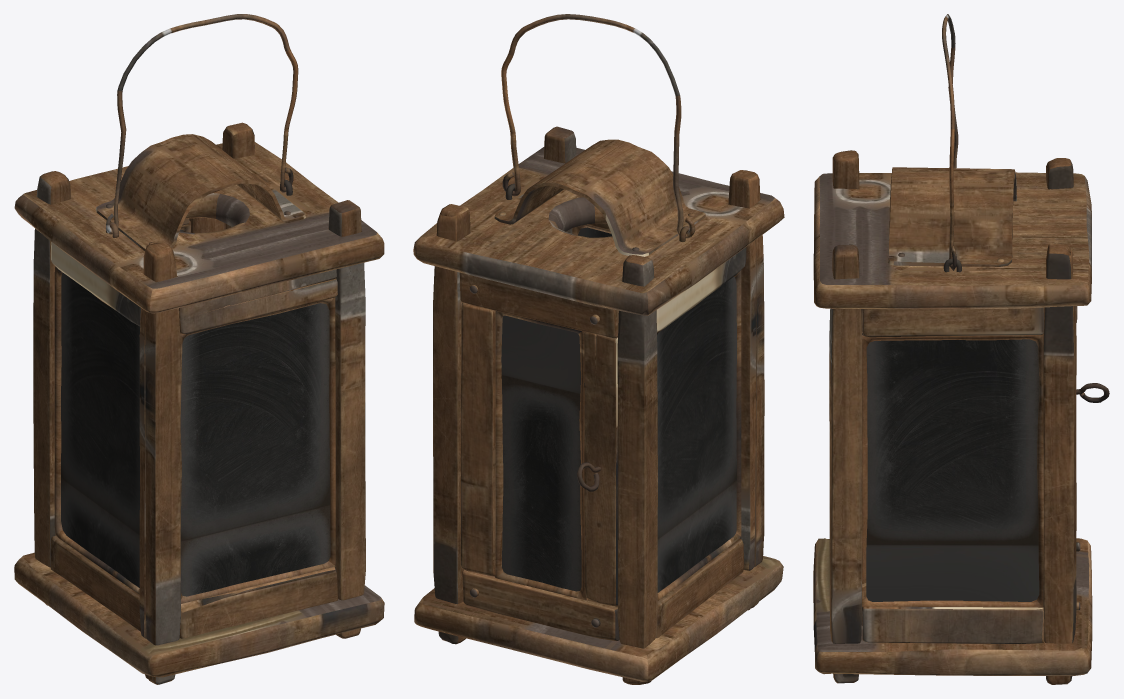
The model's file is wooden_lantern_01.obj.
3 views of the same model, side by side, from view 1: azimuth 30°, elevation 25°; view 2: azimuth 150°, elevation 25°; view 3: azimuth 270°, elevation 25° (orthographic).
Parts seen in each view (by area): view 1: wooden_lantern_01_wooden_lantern_01_0, wooden_lantern_01_wooden_lantern_01_1, wooden_lantern_01_wooden_lantern_01_handle_0, wooden_lantern_01_wooden_lantern_01_door_0; view 2: wooden_lantern_01_wooden_lantern_01_0, wooden_lantern_01_wooden_lantern_01_door_0, wooden_lantern_01_wooden_lantern_01_1, wooden_lantern_01_wooden_lantern_01_door_1, wooden_lantern_01_wooden_lantern_01_handle_0; view 3: wooden_lantern_01_wooden_lantern_01_0, wooden_lantern_01_wooden_lantern_01_1, wooden_lantern_01_wooden_lantern_01_handle_0, wooden_lantern_01_wooden_lantern_01_door_0.
Boxes of the visible parts, x1,y1,x2,y2 form: wooden_lantern_01_wooden_lantern_01_0: (14,122,384,684); wooden_lantern_01_wooden_lantern_01_1: (61,273,330,596); wooden_lantern_01_wooden_lantern_01_handle_0: (106,14,298,234); wooden_lantern_01_wooden_lantern_01_door_0: (180,217,225,233); wooden_lantern_01_wooden_lantern_01_0: (413,126,784,684); wooden_lantern_01_wooden_lantern_01_door_0: (459,272,619,641); wooden_lantern_01_wooden_lantern_01_1: (578,227,736,592); wooden_lantern_01_wooden_lantern_01_door_1: (501,315,581,591); wooden_lantern_01_wooden_lantern_01_handle_0: (501,14,695,238); wooden_lantern_01_wooden_lantern_01_0: (813,150,1092,684); wooden_lantern_01_wooden_lantern_01_1: (862,333,1039,609); wooden_lantern_01_wooden_lantern_01_handle_0: (942,14,958,270); wooden_lantern_01_wooden_lantern_01_door_0: (1075,306,1109,610).
Size of the model in its own units: 0.221 by 0.5301 by 0.2347.
2 materials, 2 textured.
